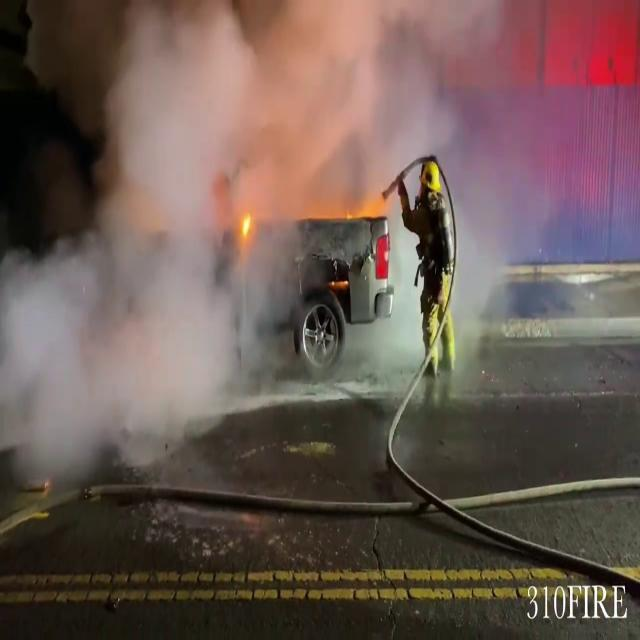Smoke: (0, 1, 338, 463)
